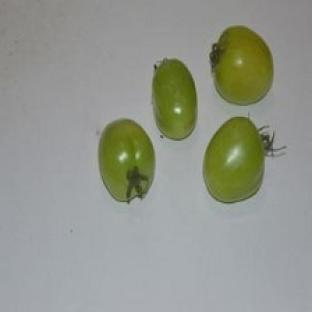Tomato: (204, 117, 272, 203), (211, 26, 274, 104), (98, 119, 155, 201), (152, 59, 197, 139)
